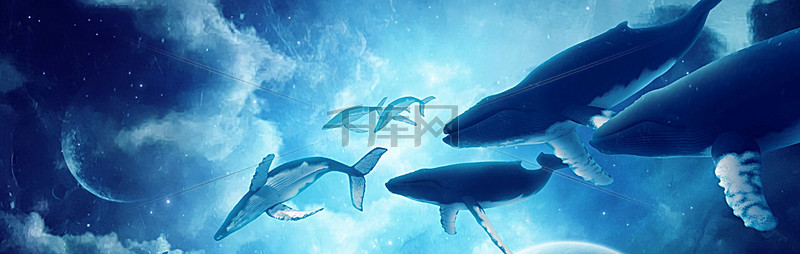fish: (438, 1, 724, 188), (587, 23, 800, 234), (369, 148, 568, 249), (204, 149, 381, 239)
